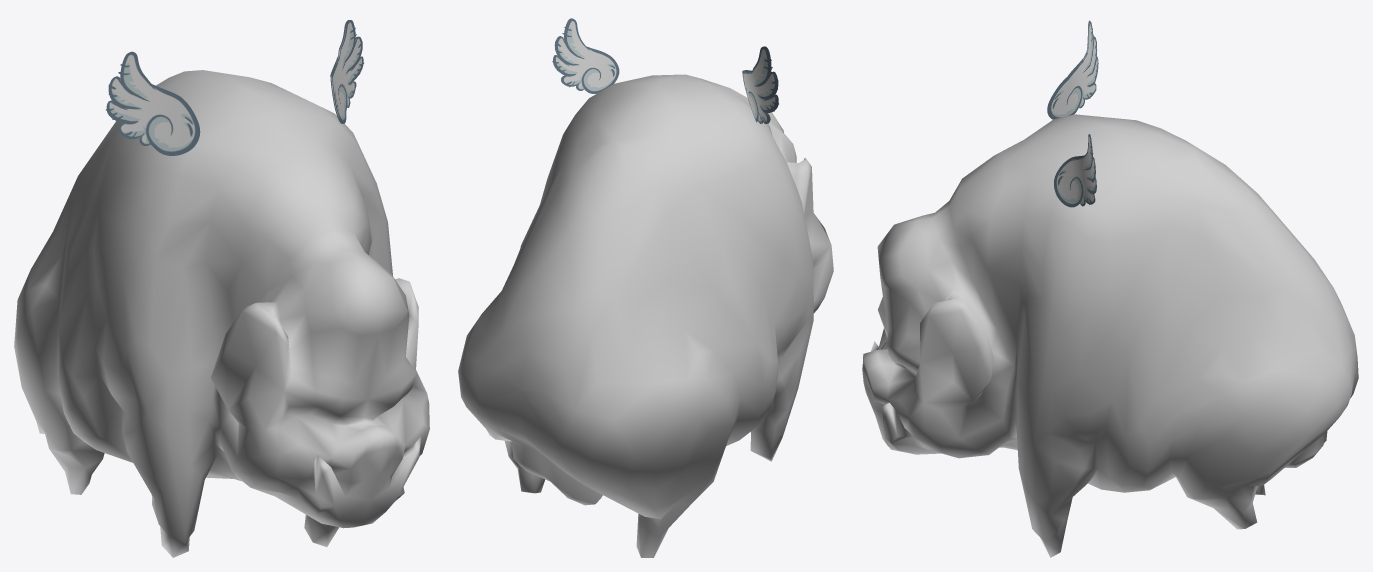
Rendered from PRP_Pig_B.FBX.
3 renders of one model, left to right at view 1: azimuth 30°, elevation 25°; view 2: azimuth 150°, elevation 25°; view 3: azimuth 270°, elevation 25°, orthographic. The views are drawn at different scales.
Parts seen in each view (by area): view 1: PIG_2_LO, PRP_PigWings_B; view 2: PIG_2_LO, PRP_PigWings_B; view 3: PIG_2_LO, PRP_PigWings_B.
Part boxes in pixels (<box>): PIG_2_LO: <box>14,70,429,557</box>; PRP_PigWings_B: <box>106,20,363,155</box>; PIG_2_LO: <box>458,74,833,557</box>; PRP_PigWings_B: <box>552,18,778,123</box>; PIG_2_LO: <box>862,114,1358,557</box>; PRP_PigWings_B: <box>1047,20,1098,207</box>.
Size of the model in its own units: 63.41 by 110 by 107.
